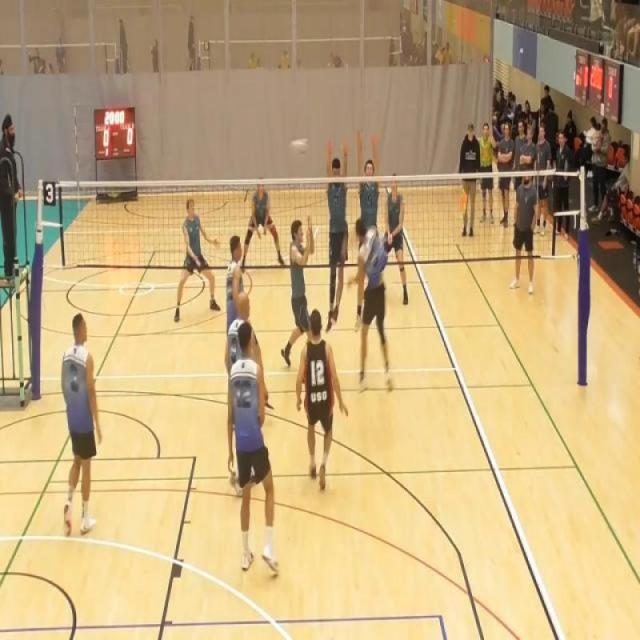volleyball: (289, 137, 310, 158)
